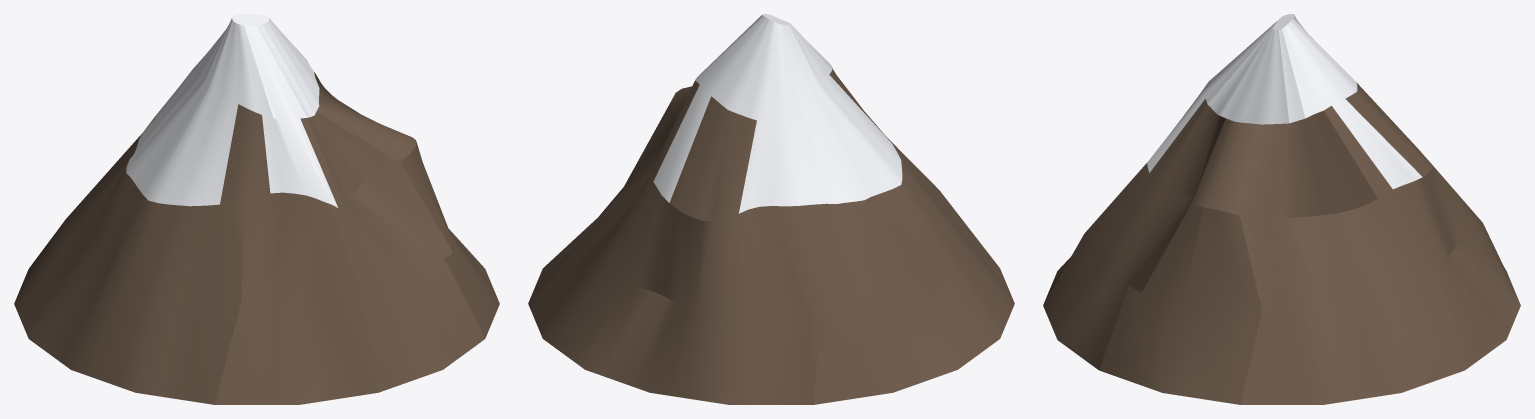
File: cerro.glb
3 views of the same model, side by side, from view 1: azimuth 30°, elevation 25°; view 2: azimuth 150°, elevation 25°; view 3: azimuth 270°, elevation 25° (orthographic).
Visible parts, largest first — view 1: cerro; view 2: cerro; view 3: cerro.
Part boxes in pixels (x1=…): cerro: x1=14, y1=14, x2=499, y2=404; cerro: x1=528, y1=14, x2=1014, y2=404; cerro: x1=1043, y1=14, x2=1520, y2=404.
Bounding box in the file's own units: 6.3 × 4.18 × 6.4.
